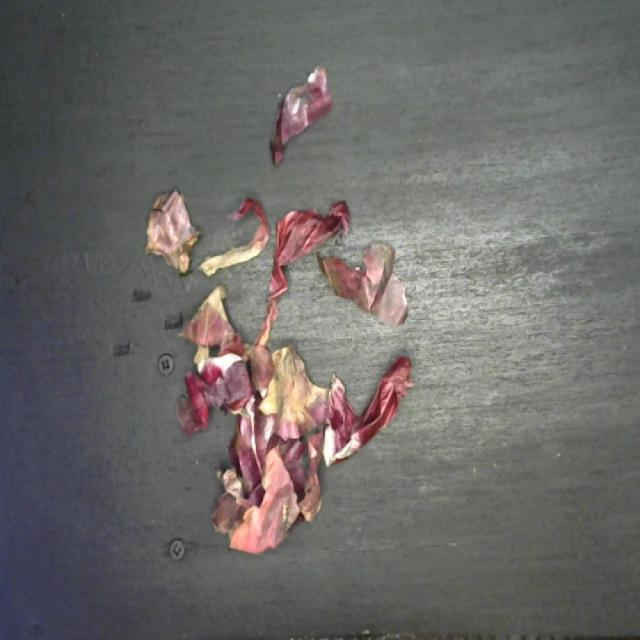biodegradable: (141, 57, 417, 562)
